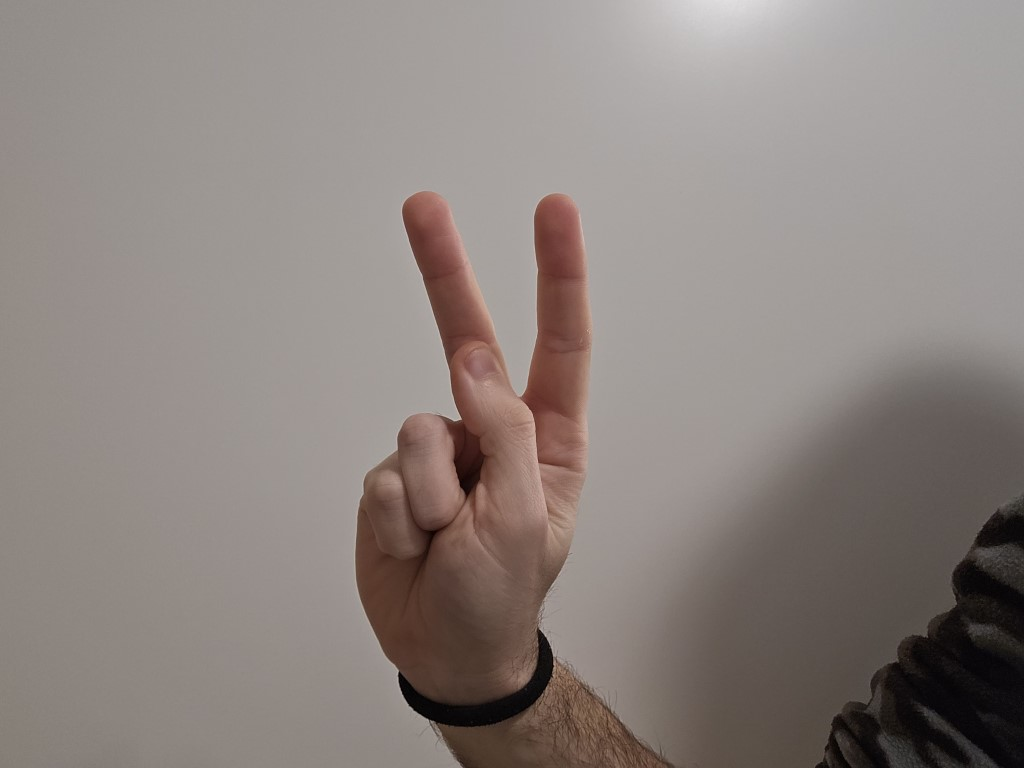k: (269, 171, 627, 652)
